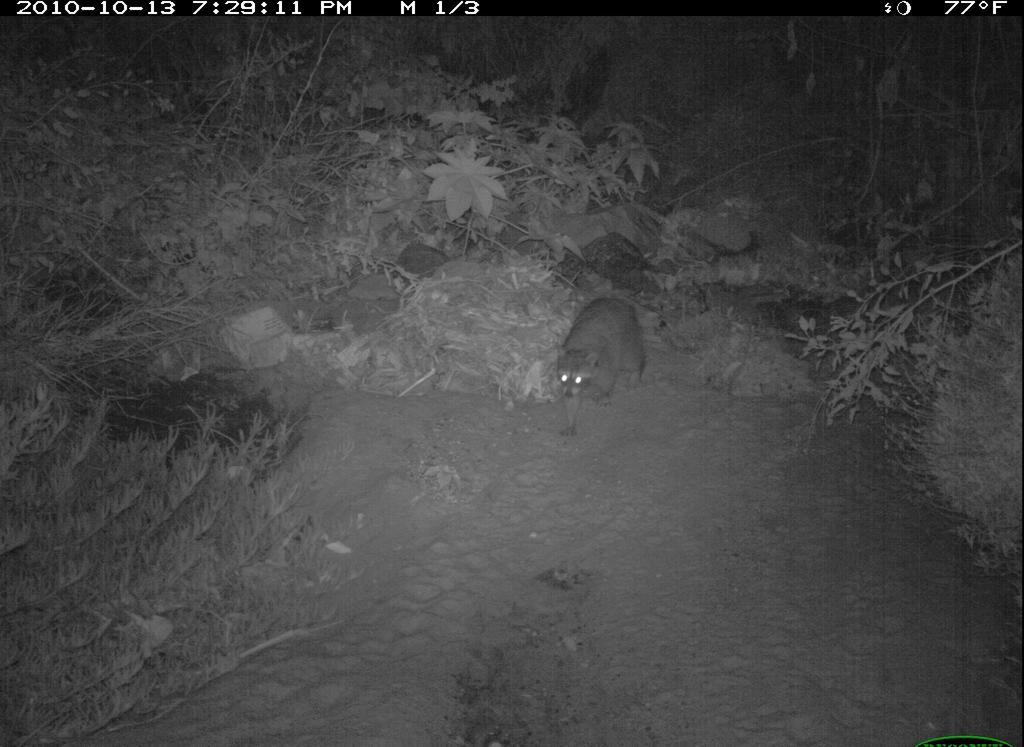raccoon: (542, 281, 652, 438)
